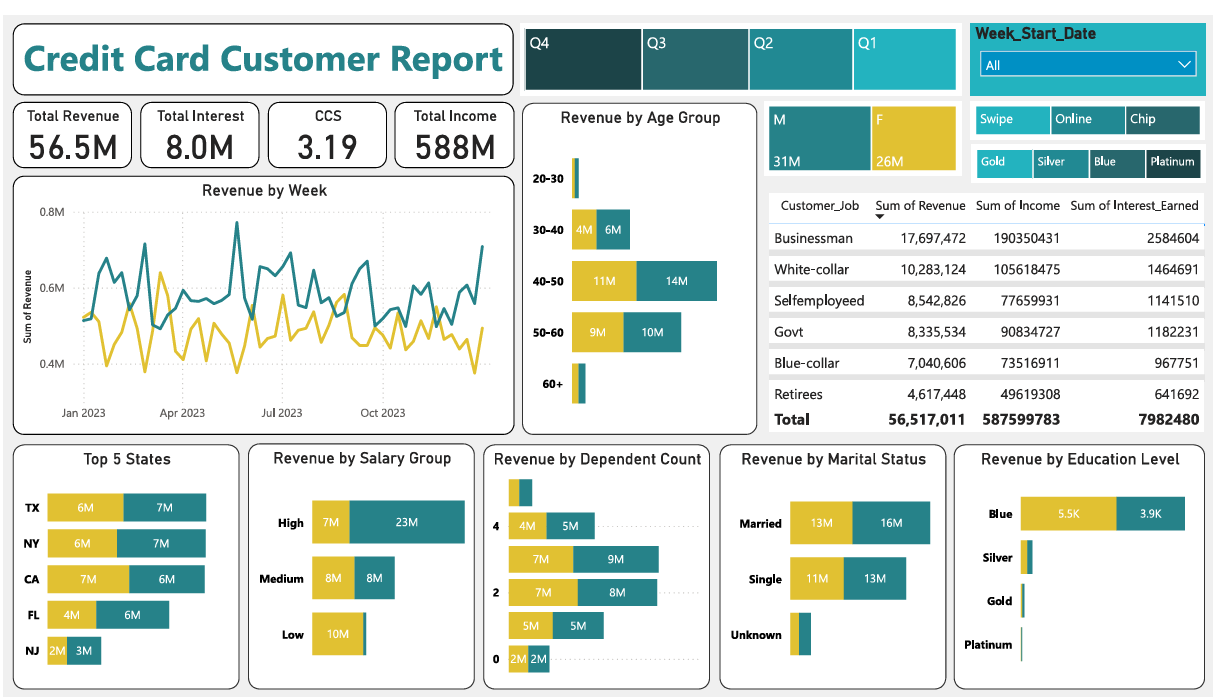

This screenshot's page, from the dashboard's own definition file:
{"tool":"powerbi","page":{"name":"CC Customer","canvas":[1280,720],"ordinal":1},"visuals":[{"type":"textbox","box":[9.6,8.4,531.1,75.9],"z":0},{"type":"barChart","title":"Revenue by Salary Group","fields":{"Y":["Sum(credit_card_details.Revenue)"],"Category":["customer_details.IncomeGroup"],"Series":["customer_details.Gender"]},"box":[258.9,452.3,240,260.1],"z":1000},{"type":"card","title":"Total Revenue","fields":{"Values":["Sum(credit_card_details.Revenue)"]},"box":[9.6,91.4,126.5,69.9],"z":2000},{"type":"card","title":"Total Income","fields":{"Values":["Sum(customer_details.Income)"]},"box":[414.3,91.4,126.5,69.9],"z":3000},{"type":"card","title":"CCS","fields":{"Values":["Avg(customer_details.Cust_Satisfaction_Score)"]},"box":[279.6,91.4,126,69.9],"z":4000},{"type":"card","title":"Total Interest","fields":{"Values":["Sum(credit_card_details.Interest_Earned)"]},"box":[144.8,91.4,126,69.9],"z":5000},{"type":"slicer","title":"Week_Start_Date","fields":{"Values":["credit_card_details.Week_Start_Date"]},"box":[1024.4,8.1,248.8,75.6],"z":6000},{"type":"treemap","fields":{"Group":["credit_card_details.Qtr"],"Values":["Avg(credit_card_details.Client_Num)"]},"box":[546.5,8.1,467.4,75.6],"z":7000},{"type":"treemap","fields":{"Values":["Avg(credit_card_details.Client_Num)"],"Group":["credit_card_details.Card_Category"]},"box":[1024.9,136.5,248,41],"z":8000},{"type":"treemap","fields":{"Group":["customer_details.Gender"],"Values":["Sum(credit_card_details.Revenue)"]},"box":[804.5,90.3,209.6,78.3],"z":9000},{"type":"lineChart","title":"Revenue by Week","fields":{"Y":["Sum(credit_card_details.Revenue)"],"Series":["customer_details.Gender"],"Category":["credit_card_details.Week_Start_Date.Variation.Date Hierarchy.Year","credit_card_details.Week_Start_Date.Variation.Date Hierarchy.Month","credit_card_details.Week_Start_Date.Variation.Date Hierarchy.Day"]},"box":[9.6,168.6,531.1,274.6],"z":10000},{"type":"barChart","title":"Revenue by Age Group","fields":{"Y":["Sum(credit_card_details.Revenue)"],"Series":["customer_details.Gender"],"Category":["customer_details.AgeGroup"]},"box":[548.8,91.9,248.8,351.2],"z":11000},{"type":"barChart","title":"Revenue by Education Level","fields":{"Y":["Sum(credit_card_details.Revenue)"],"Series":["customer_details.Gender"],"Category":["customer_details.Education_Level"]},"box":[1005.8,453.5,266.3,258.1],"z":12000},{"type":"barChart","title":"Top 5 States","fields":{"Y":["Sum(credit_card_details.Revenue)"],"Category":["customer_details.State_cd"],"Series":["customer_details.Gender"]},"box":[9.6,452.9,240,258.9],"z":13000},{"type":"barChart","title":"Revenue by Marital Stautus","fields":{"Y":["Sum(credit_card_details.Revenue)"],"Category":["customer_details.Marital_Status"],"Series":["customer_details.Gender"]},"box":[757.5,452.9,240,258.9],"z":14000},{"type":"barChart","title":"Revenue by Dependent Count","fields":{"Y":["Sum(credit_card_details.Revenue)"],"Category":["customer_details.Dependent_Count"],"Series":["customer_details.Gender"]},"box":[508.2,452.9,240,258.9],"z":15000},{"type":"tableEx","fields":{"Values":["customer_details.Customer_Job","Sum(credit_card_details.Revenue)","Sum(customer_details.Income)","Sum(credit_card_details.Interest_Earned)"]},"box":[804.5,183.3,475.7,263.8],"z":16000},{"type":"treemap","fields":{"Group":["credit_card_details.Use_Chip"],"Values":["Avg(credit_card_details.Client_Num)"]},"box":[1024.4,89.6,248,41],"z":17000}]}

Visuals, with their boxes in screenshot pixels (x1, y1, x2, y2), scaled from the page's 1280x720 canvas onto the 1220x697 screenshot:
textbox: {"x1": 9, "y1": 8, "x2": 515, "y2": 82}
"Revenue by Salary Group" barChart: {"x1": 247, "y1": 438, "x2": 476, "y2": 690}
"Total Revenue" card: {"x1": 9, "y1": 88, "x2": 130, "y2": 156}
"Total Income" card: {"x1": 395, "y1": 88, "x2": 515, "y2": 156}
"CCS" card: {"x1": 266, "y1": 88, "x2": 387, "y2": 156}
"Total Interest" card: {"x1": 138, "y1": 88, "x2": 258, "y2": 156}
"Week_Start_Date" slicer: {"x1": 976, "y1": 8, "x2": 1214, "y2": 81}
treemap - credit_card_details.Qtr x Avg(credit_card_details.Client_Num): {"x1": 521, "y1": 8, "x2": 966, "y2": 81}
treemap - Avg(credit_card_details.Client_Num) x credit_card_details.Card_Category: {"x1": 977, "y1": 132, "x2": 1213, "y2": 172}
treemap - customer_details.Gender x Sum(credit_card_details.Revenue): {"x1": 767, "y1": 87, "x2": 967, "y2": 163}
"Revenue by Week" lineChart: {"x1": 9, "y1": 163, "x2": 515, "y2": 429}
"Revenue by Age Group" barChart: {"x1": 523, "y1": 89, "x2": 760, "y2": 429}
"Revenue by Education Level" barChart: {"x1": 959, "y1": 439, "x2": 1212, "y2": 689}
"Top 5 States" barChart: {"x1": 9, "y1": 438, "x2": 238, "y2": 689}
"Revenue by Marital Stautus" barChart: {"x1": 722, "y1": 438, "x2": 951, "y2": 689}
"Revenue by Dependent Count" barChart: {"x1": 484, "y1": 438, "x2": 713, "y2": 689}
tableEx - customer_details.Customer_Job x Sum(credit_card_details.Revenue): {"x1": 767, "y1": 177, "x2": 1219, "y2": 433}
treemap - credit_card_details.Use_Chip x Avg(credit_card_details.Client_Num): {"x1": 976, "y1": 87, "x2": 1213, "y2": 126}
